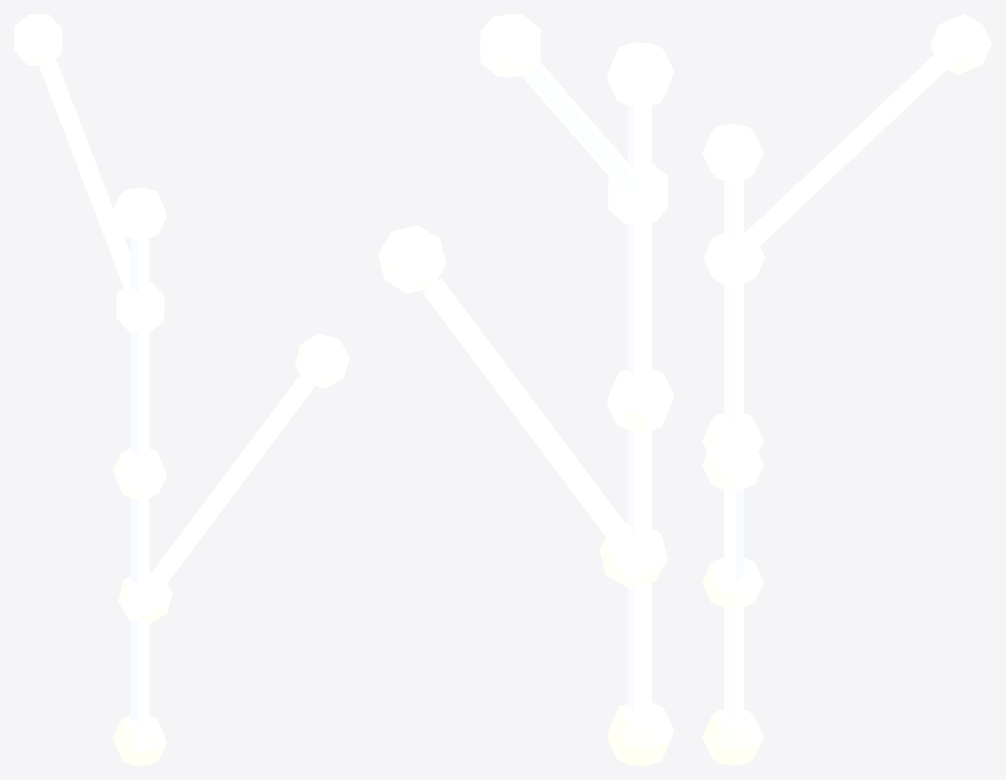
File: neuron1.glb
3 views of the same model, side by side, from view 1: azimuth 30°, elevation 25°; view 2: azimuth 150°, elevation 25°; view 3: azimuth 270°, elevation 25° (orthographic). The views are drawn at different scales.
Visible parts, largest first — view 1: n1; view 2: n1; view 3: n1.
Boxes of the visible parts, left/top/right/bottom form: n1: left=14, top=14, right=349, bottom=765; n1: left=378, top=14, right=673, bottom=765; n1: left=702, top=14, right=991, bottom=765.
Size of what is drawn, in the model's own units: 1.62 by 4.55 by 1.59.
Materials: 1 (1 with a texture image).
